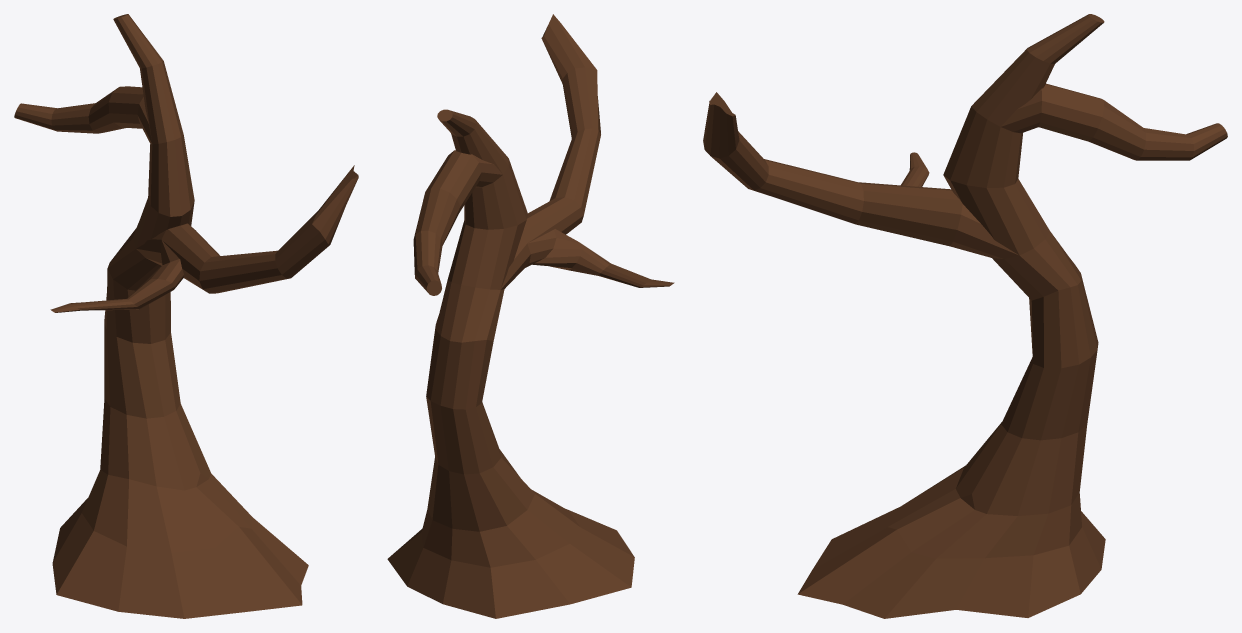
File: Tree1_Trunk.fbx
3 renders of one model, left to right at view 1: azimuth 30°, elevation 25°; view 2: azimuth 150°, elevation 25°; view 3: azimuth 270°, elevation 25°, orthographic. The views are drawn at different scales.
Parts seen in each view (by area): view 1: Icosphere.000; view 2: Icosphere.000; view 3: Icosphere.000.
Part boxes in pixels (left/top/right/bottom): Icosphere.000: left=14, top=14, right=358, bottom=618; Icosphere.000: left=387, top=14, right=674, bottom=618; Icosphere.000: left=703, top=14, right=1227, bottom=618.
Size of the model in its own units: 220 by 434 by 372.
